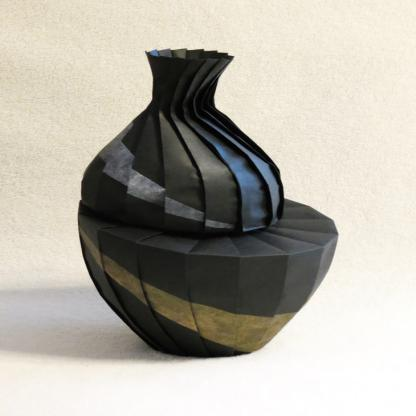vase: (74, 47, 338, 358)
